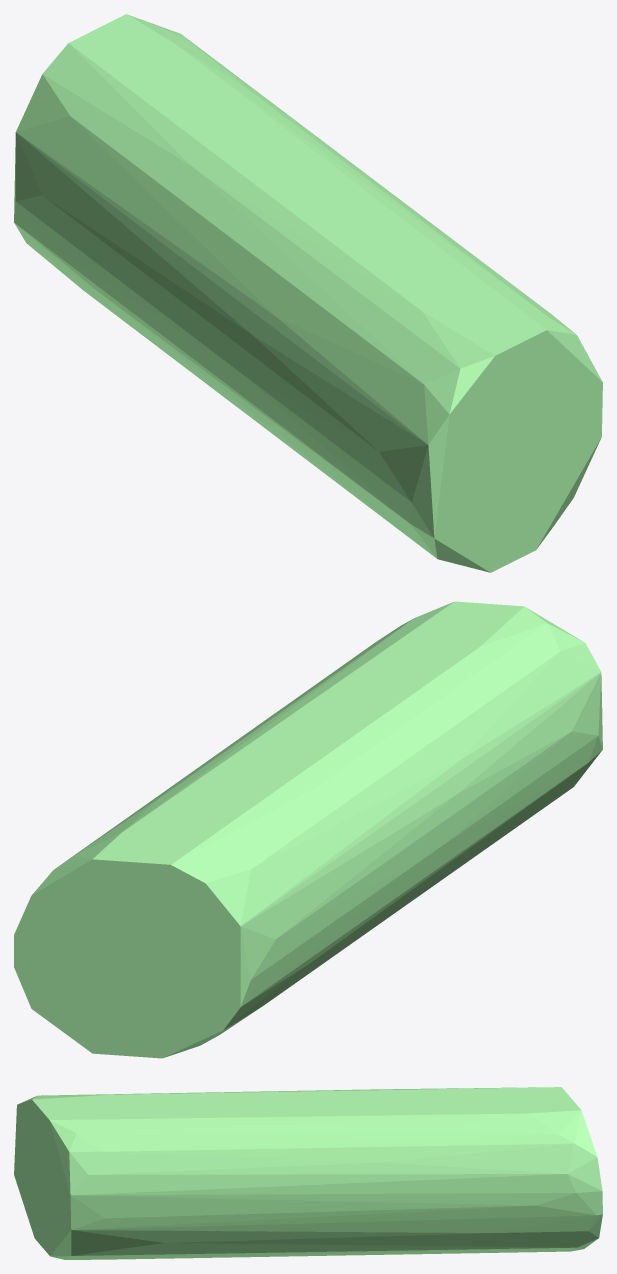
The model's file is palle_scrotali_buone_L_link2_respondable_coll_1.dae.
The picture shows the model from 3 angles, top to bottom: view 1: azimuth 30°, elevation 25°; view 2: azimuth 150°, elevation 25°; view 3: azimuth 270°, elevation 25°; orthographic projection. The views are drawn at different scales.
Parts seen in each view (by area): view 1: Node_000002334E243BC0; view 2: Node_000002334E243BC0; view 3: Node_000002334E243BC0.
Part boxes in pixels (<box>): Node_000002334E243BC0: <box>14,14,602,572</box>; Node_000002334E243BC0: <box>14,601,602,1058</box>; Node_000002334E243BC0: <box>14,1087,602,1259</box>.
Size of the model in its own units: 0.1331 by 0.1311 by 0.4724.
